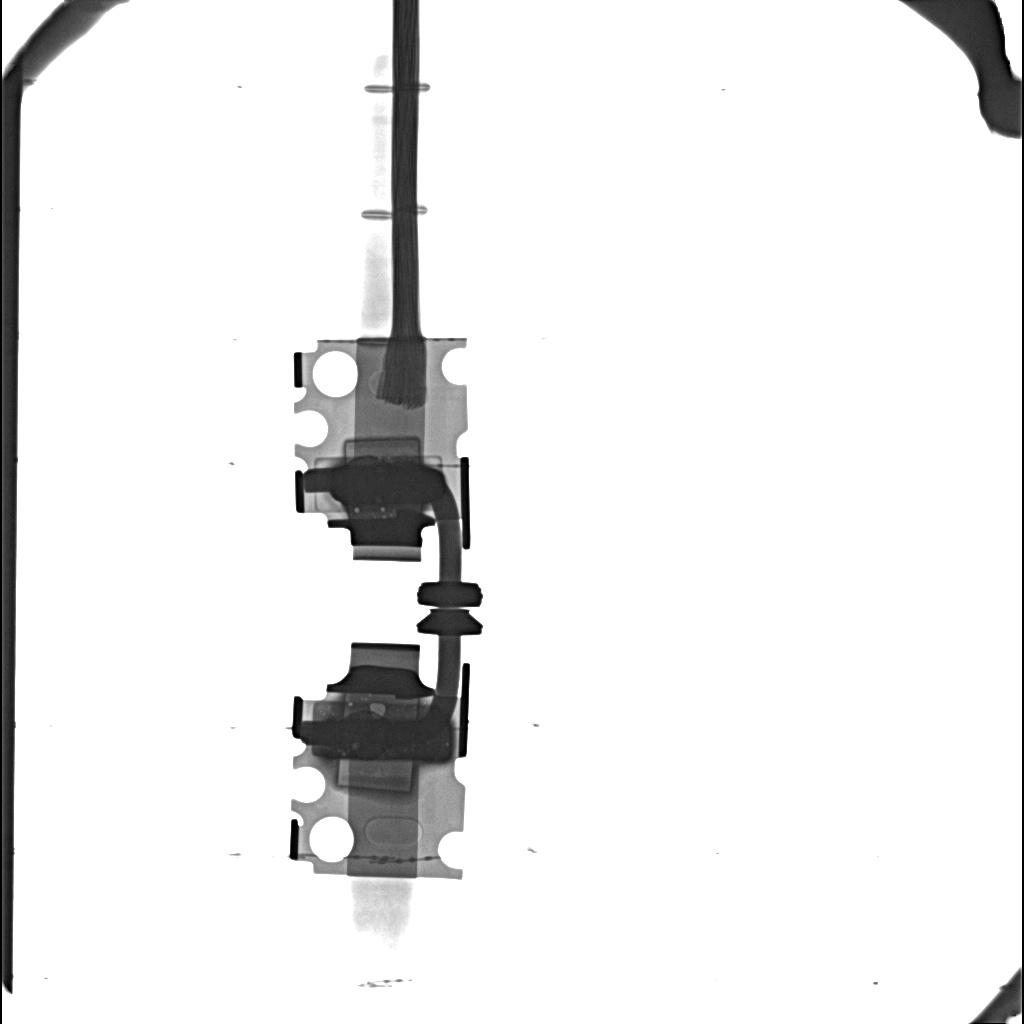PX: (333, 761, 415, 795), (343, 437, 421, 460)
QP: (370, 703, 386, 715)
SX: (313, 720, 451, 761), (330, 464, 445, 505)
